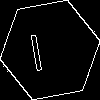I: (25, 25, 46, 72)
